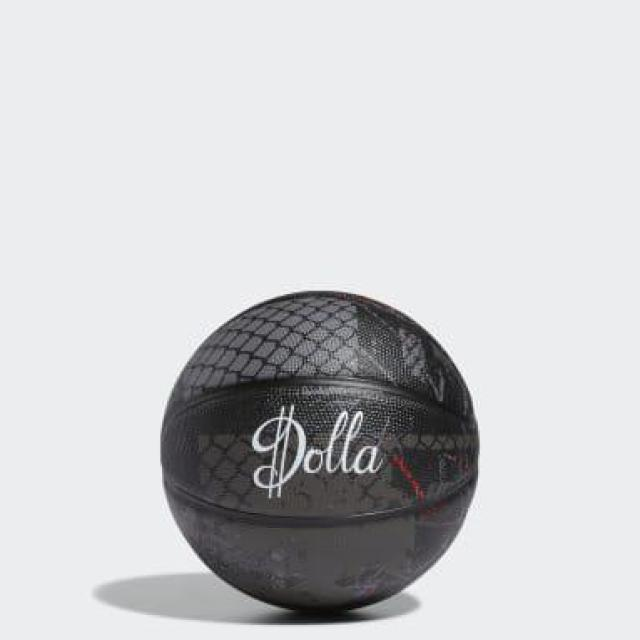ball: (154, 286, 485, 628)
